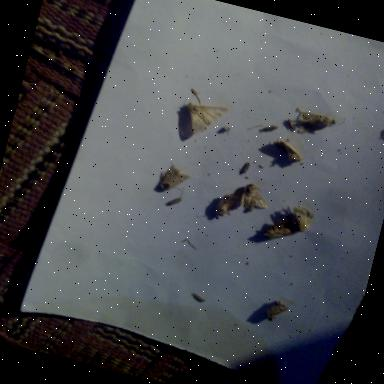abw: (171, 92, 233, 145), (286, 100, 344, 142), (149, 158, 199, 202), (236, 178, 278, 218), (281, 200, 323, 238), (255, 212, 298, 249), (207, 186, 246, 226), (255, 293, 296, 330), (267, 135, 309, 167)
